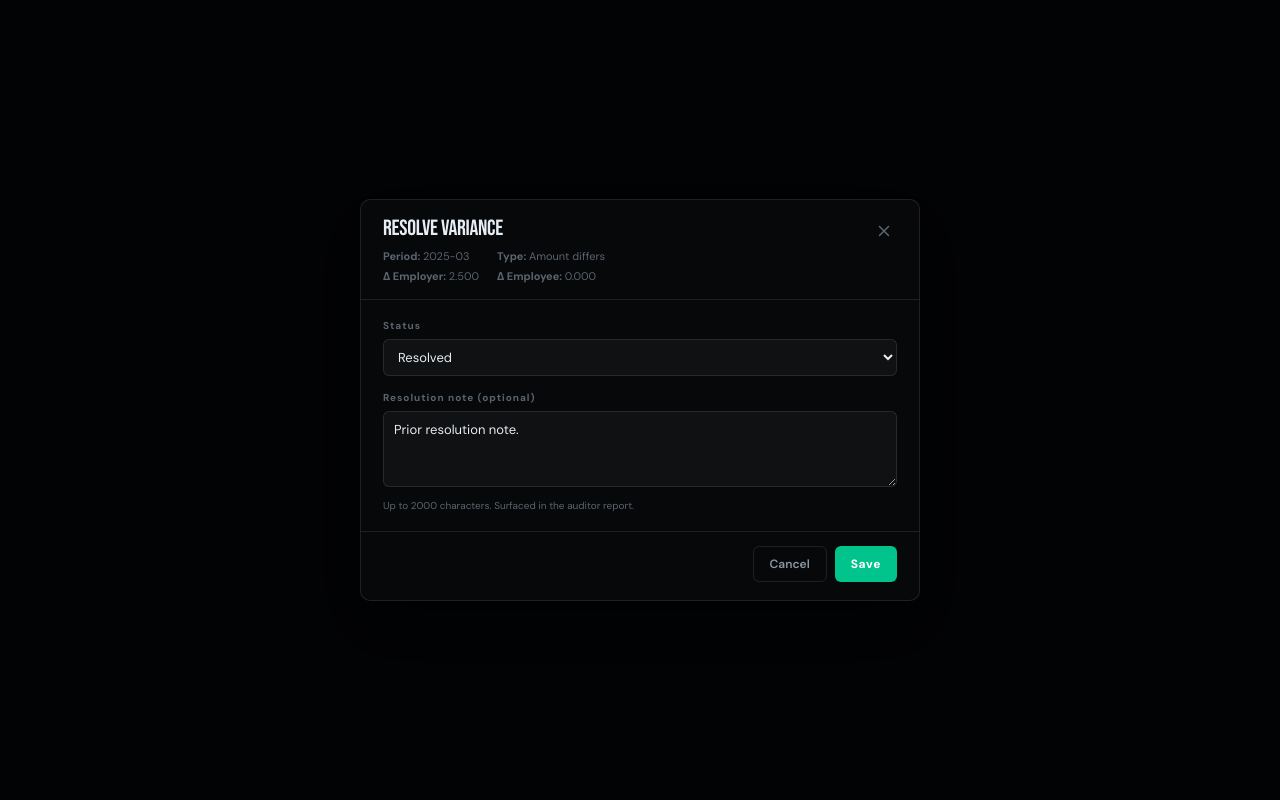
Test: VarianceResolutionModal › blocks save with required-reopen-reason error when Owner submits empty reason
Select "Unresolved" in the dropdown labelled "Status" at x=640, y=357, box [383,339,897,376]
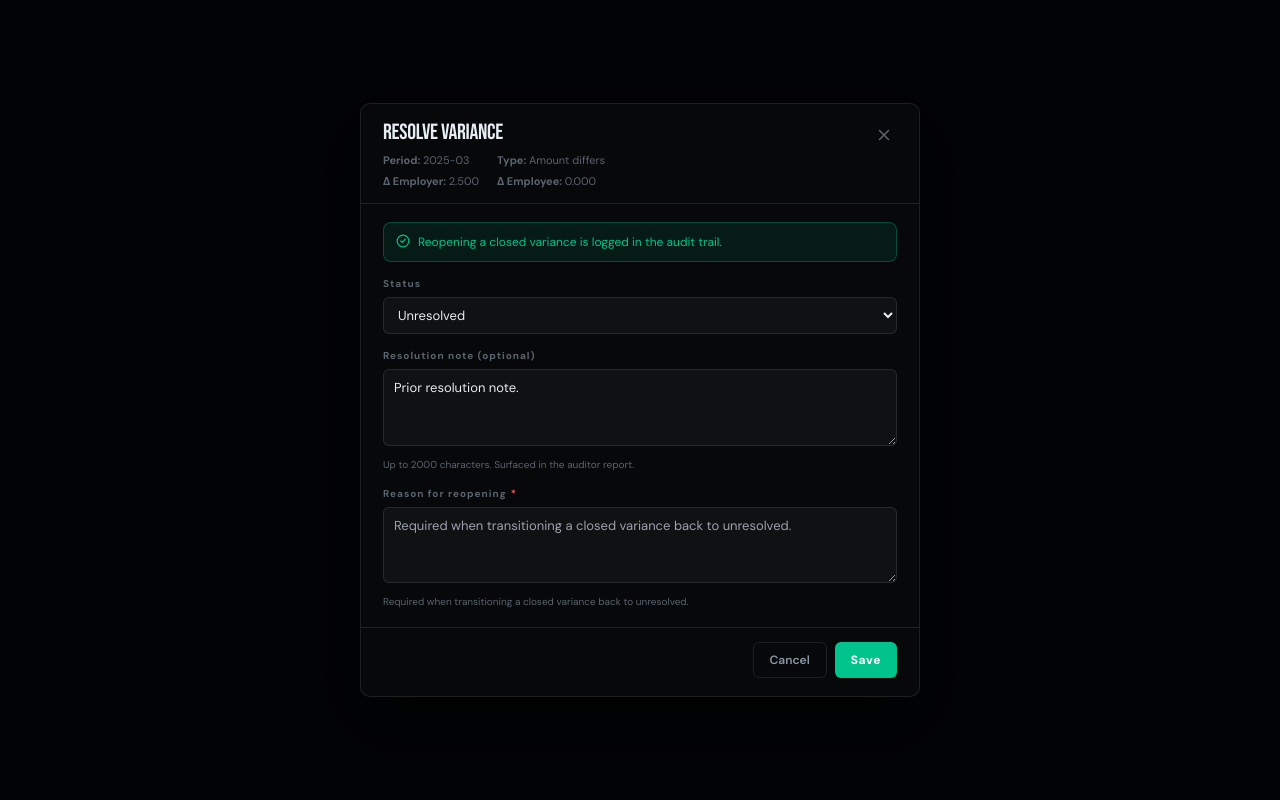
Click the button "Save".
click(866, 660)  # box [835,642,897,678]
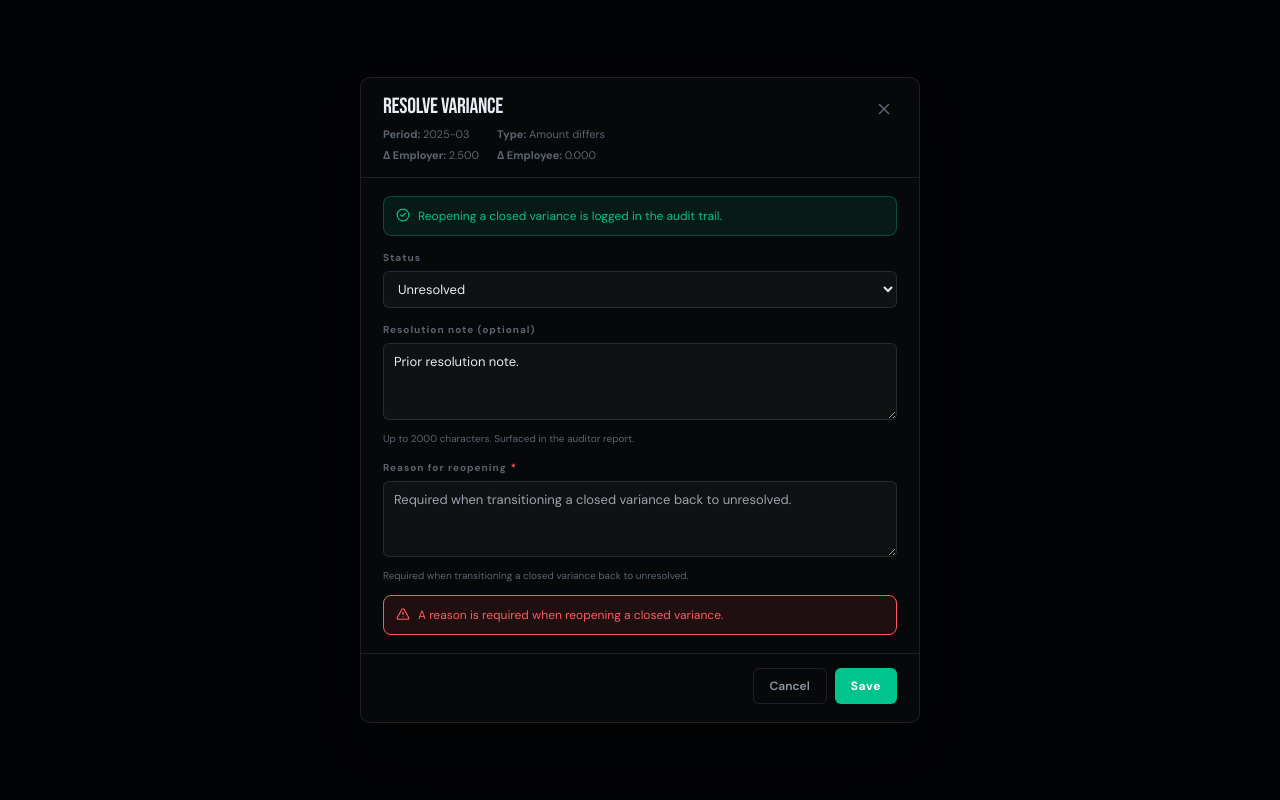
Now the text "A reason is required when reopening a closed variance." is shown, box [418,606,723,624]
